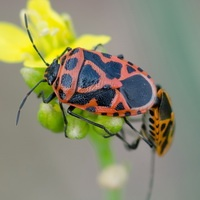insect: (16, 13, 174, 199), (73, 107, 138, 141)
